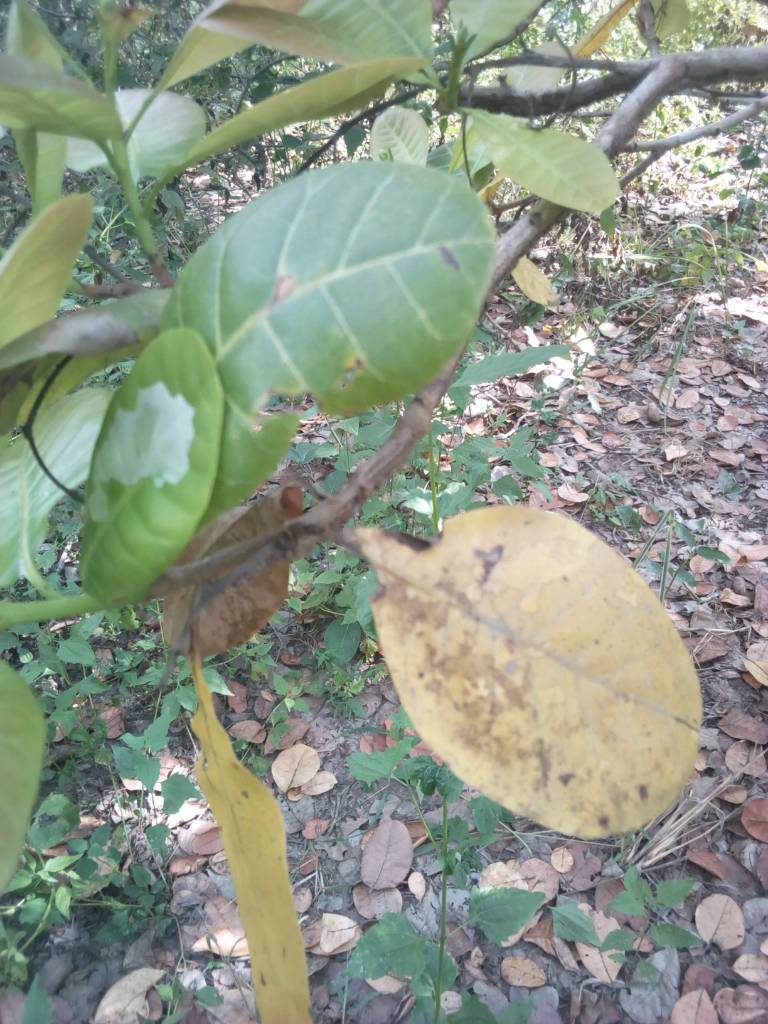Bactériose: (365, 503, 704, 835), (208, 172, 485, 483)
